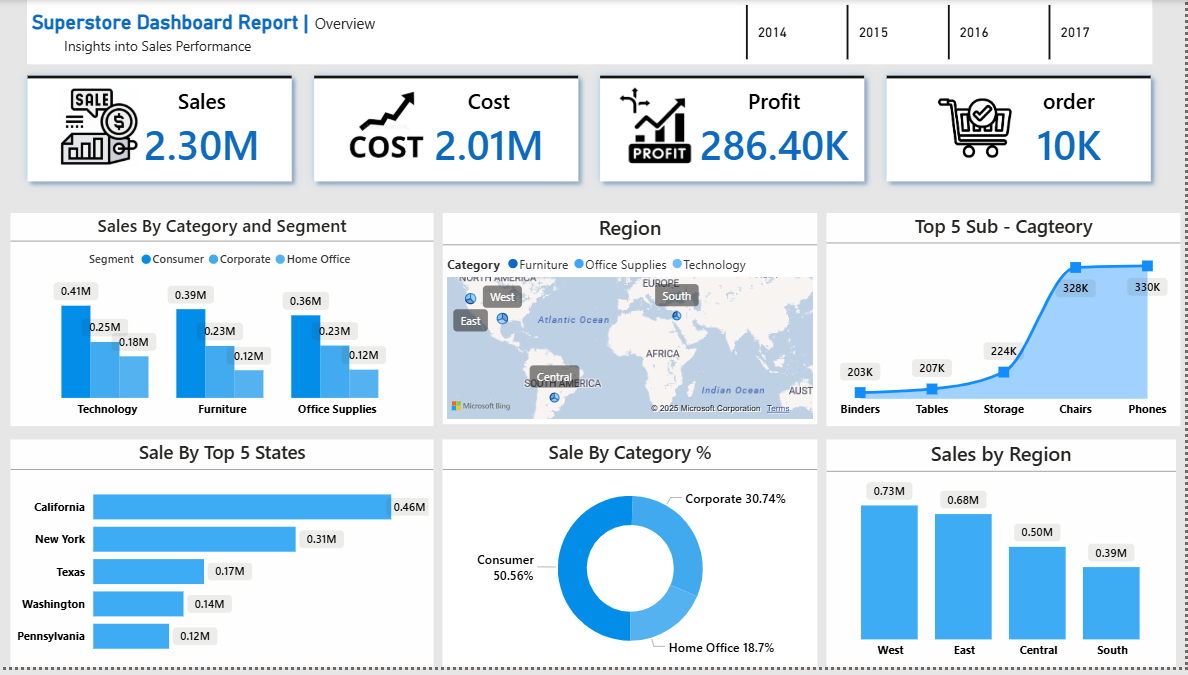

The page's visual inventory and layout, read from the dashboard file:
{"tool":"powerbi","page":{"name":"BY Sales ","canvas":[1280,720],"ordinal":0},"visuals":[{"type":"donutChart","title":"Sale By Category %","fields":{"Y":["Sum(Orders$FilterDatabase.Sales)"],"Category":["Orders$FilterDatabase.Segment"]},"box":[477.7,474.4,404.8,246.1],"z":0},{"type":"map","title":"Region","fields":{"Size":["Sum(Orders$FilterDatabase.Sales)"],"Category":["Orders$FilterDatabase.Region"],"Series":["Orders$FilterDatabase.Category"]},"box":[477.7,229.9,404.8,228.3],"z":1000},{"type":"columnChart","title":"Sales by Region","fields":{"Category":["Orders$FilterDatabase.Region"],"Y":["Sum(Orders$FilterDatabase.Sales)"]},"box":[892.2,474.4,377.3,246.1],"z":2000},{"type":"barChart","title":"Sale By Top 5 States","fields":{"Category":["Orders$FilterDatabase.State"],"Y":["Sum(Orders$FilterDatabase.Sales)"]},"box":[11.3,474.4,456.6,246.1],"z":3000},{"type":"clusteredColumnChart","title":" Sales By Category and Segment","fields":{"Category":["Orders$FilterDatabase.Category"],"Y":["Sum(Orders$FilterDatabase.Sales)"],"Series":["Orders$FilterDatabase.Segment"]},"box":[11.3,229.9,456.6,229.9],"z":4000},{"type":"lineChart","title":"Top 5 Sub - Cagteory","fields":{"Category":["Orders$FilterDatabase.Sub-Category"],"Y":["Sum(Orders$FilterDatabase.Sales)"]},"box":[892.2,229.9,377.3,229.9],"z":5000},{"type":"cardVisual","fields":{"Data":["Sum(Orders$FilterDatabase.Sales)","Orders$FilterDatabase.Total_Cost","Sum(Orders$FilterDatabase.Profit)","Orders.total_order"]},"box":[16,80,1264,144],"z":6000},{"type":"textbox","box":[29.1,0,770.8,69.6],"z":7000},{"type":"advancedSlicerVisual","fields":{"Values":["Orders$FilterDatabase.Order Date.Variation.Date Hierarchy.Year"]},"box":[799.9,0,443.7,69.6],"z":8000}]}

Visuals, with their boxes in screenshot pixels (x1, y1, x2, y2), scaled from the page's 1280x720 canvas onto the 1188x675 screenshot:
"Sale By Category %" donutChart: 443,445,819,674
"Region" map: 443,216,819,430
"Sales by Region" columnChart: 828,445,1178,674
"Sale By Top 5 States" barChart: 10,445,434,674
" Sales By Category and Segment" clusteredColumnChart: 10,216,434,431
"Top 5 Sub - Cagteory" lineChart: 828,216,1178,431
cardVisual - Sum(Orders$FilterDatabase.Sales) x Orders$FilterDatabase.Total_Cost: 15,75,1187,210
textbox: 27,0,742,65
advancedSlicerVisual - Orders$FilterDatabase.Order Date.Variation.Date Hierarchy.Year: 742,0,1154,65
